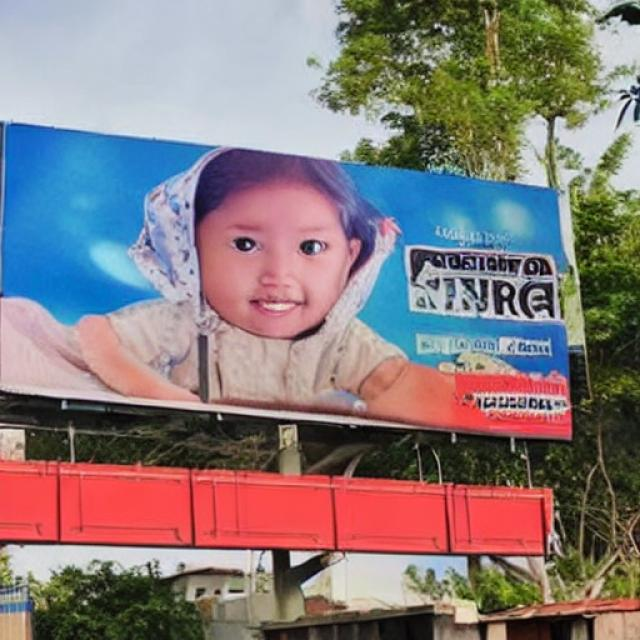Billboard: (2, 118, 574, 442)
